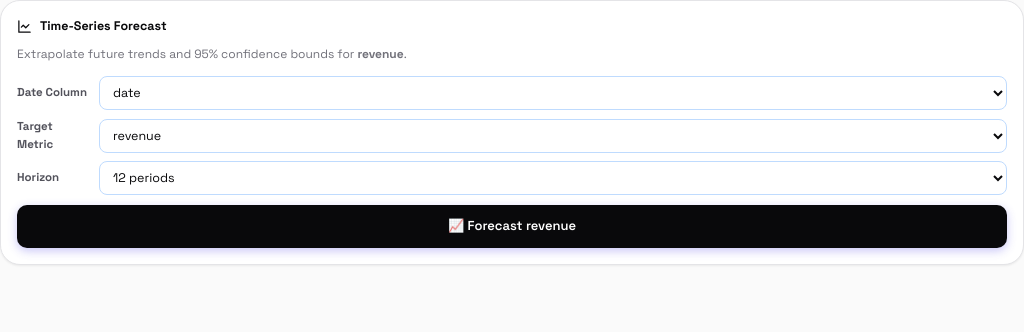
it: TimeSeriesForecastCard Component › submits forecast request and renders trend direction metric
Step 1. Click the button "📈 Forecast revenue" → point(512, 226), box [17,205,1007,248]
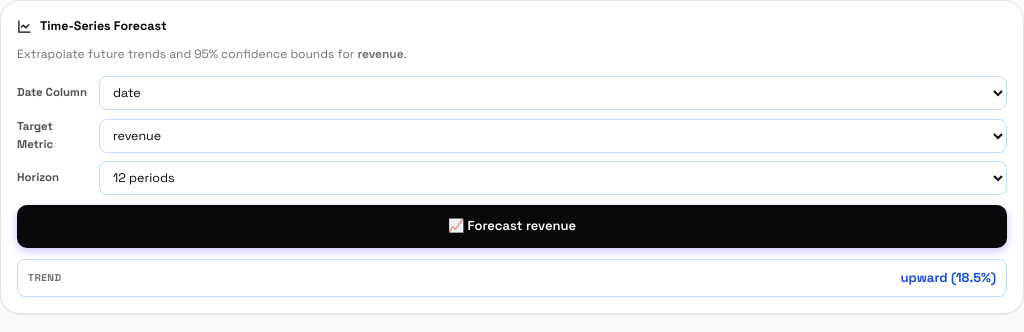
Now the text "upward (18.5%)" is shown, box [900,268,996,288]
